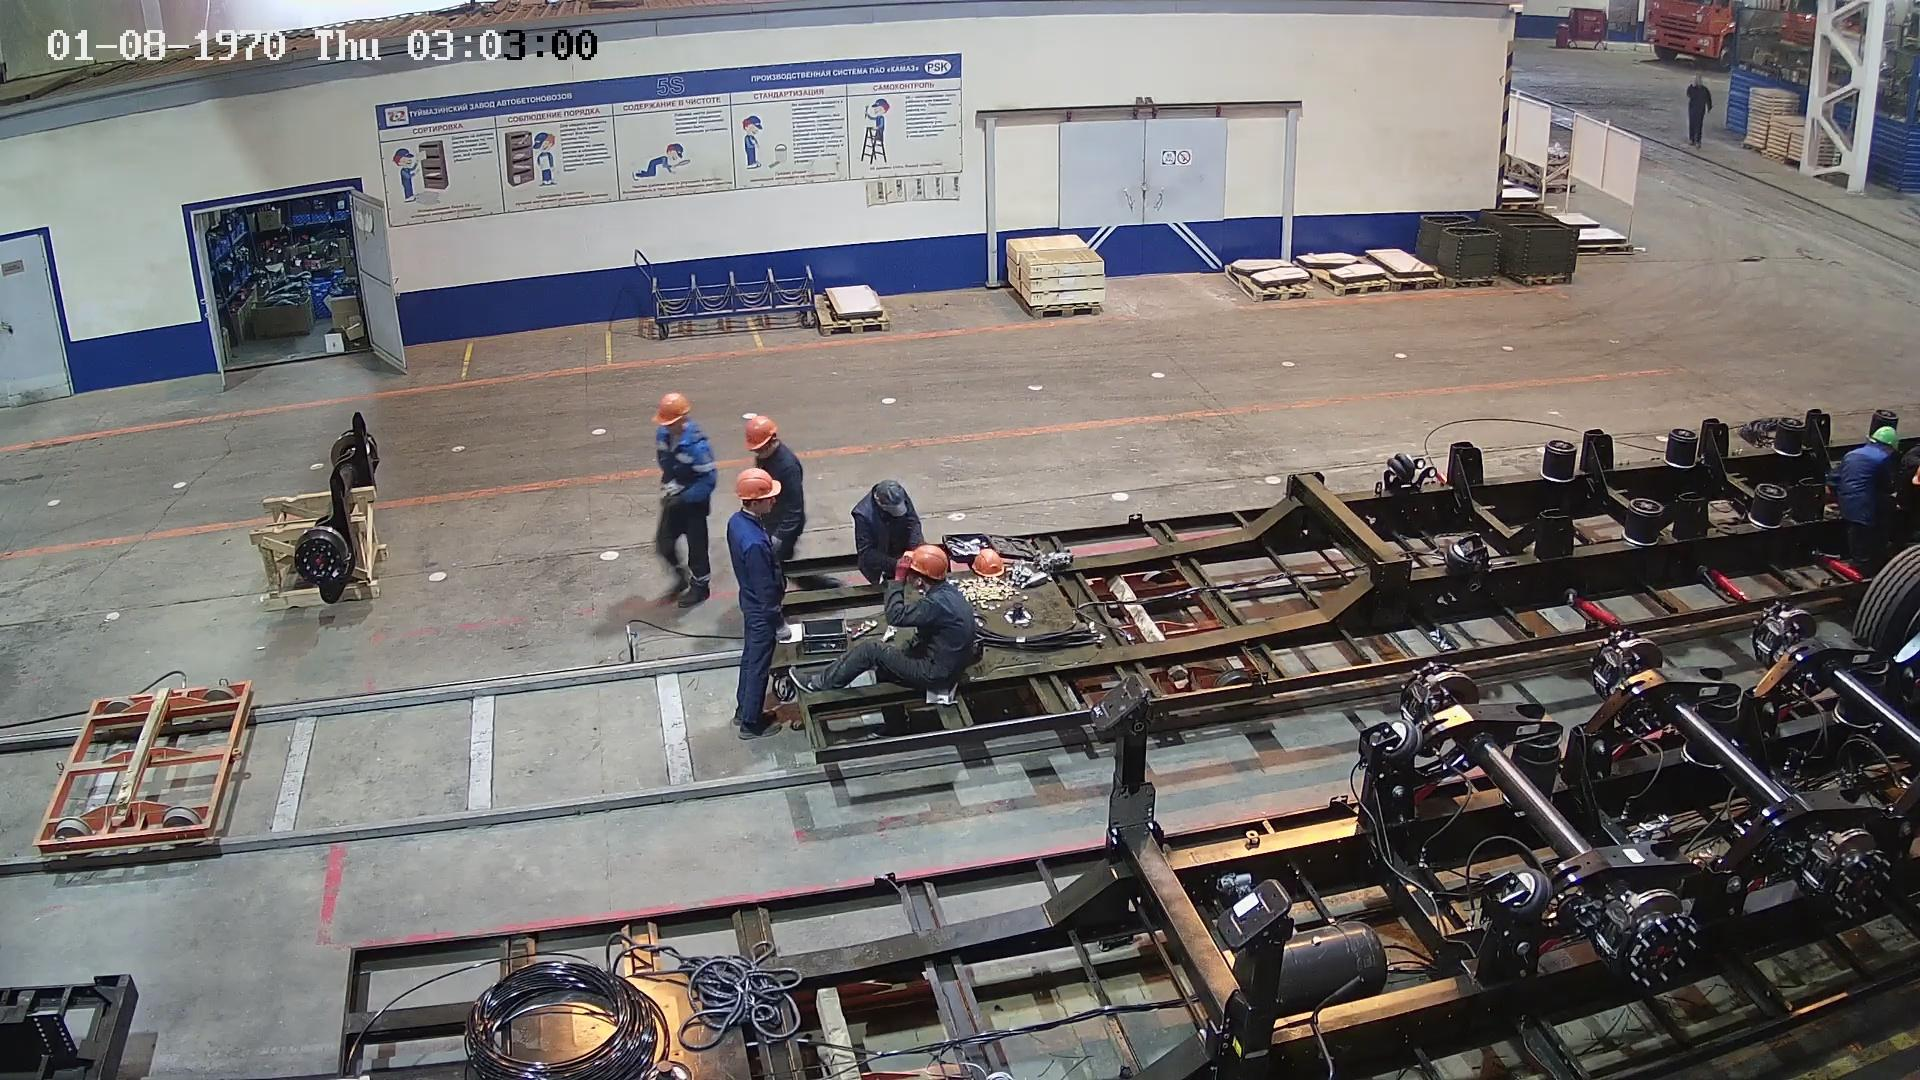helmet: (904, 536, 955, 583), (734, 462, 783, 503), (652, 384, 691, 430), (1866, 412, 1902, 446), (742, 408, 774, 446)
person: (828, 541, 977, 716), (636, 382, 723, 612), (730, 458, 790, 740), (1828, 394, 1910, 555), (747, 388, 812, 521), (852, 462, 919, 548), (1678, 70, 1722, 150)
